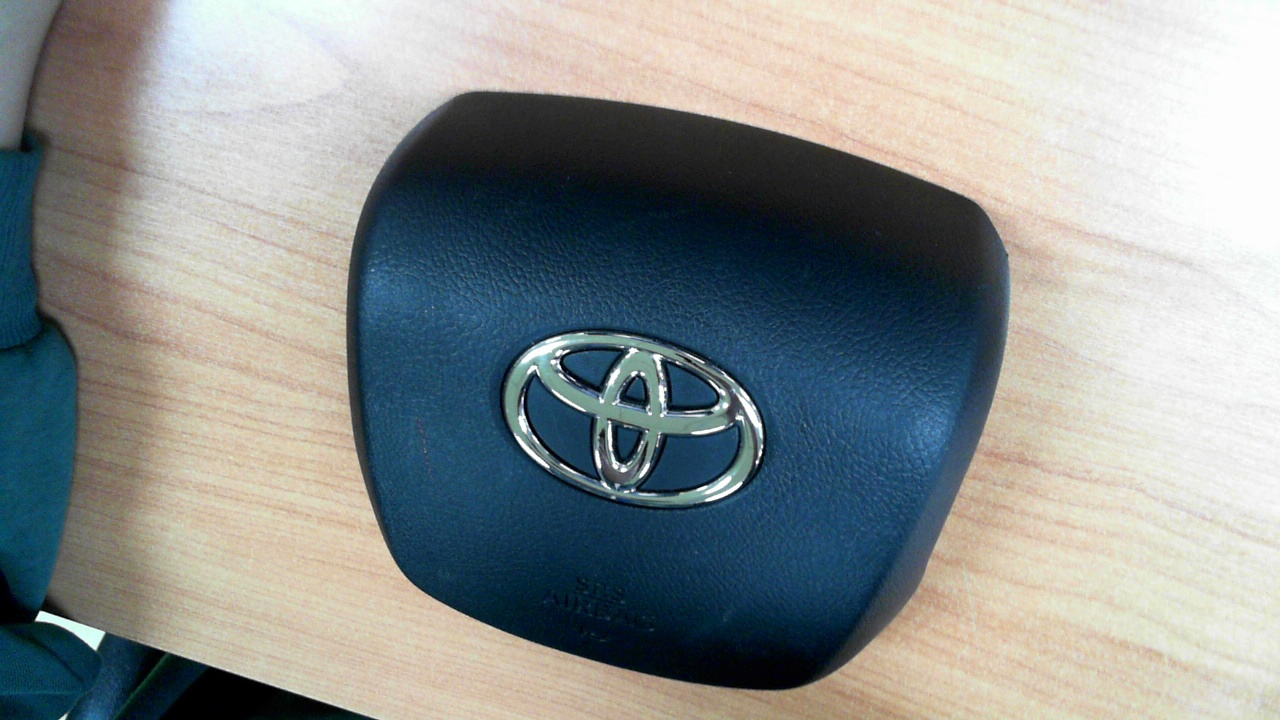Airbag: (344, 88, 1012, 695)
Toyota: (503, 331, 765, 508)
